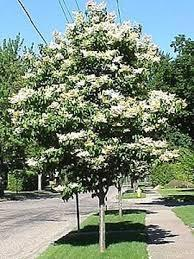tree: (7, 1, 186, 252)
